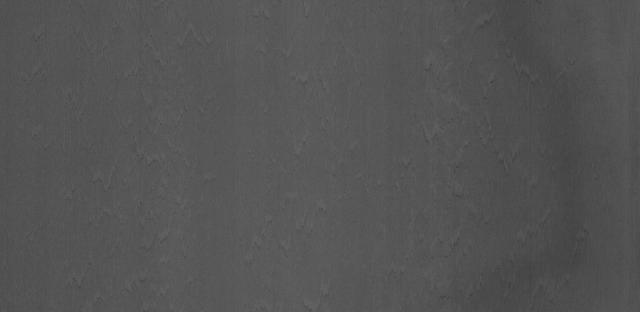silk_spot: (389, 94, 509, 205), (103, 110, 213, 207), (413, 25, 501, 82)
